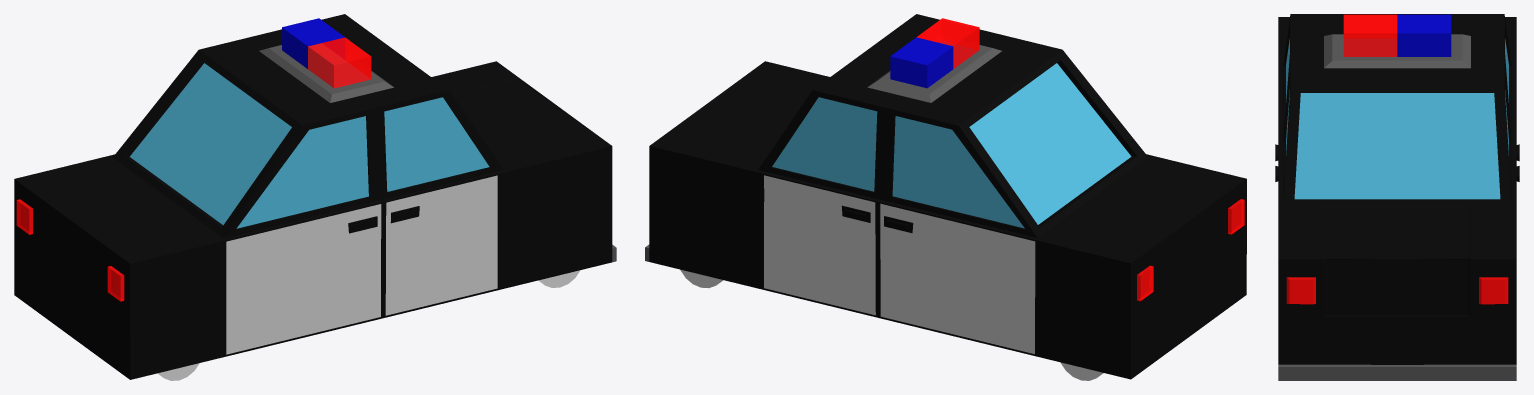
File: cop_car_Re.FBX
The picture shows the model from 3 angles, left to right: view 1: azimuth 30°, elevation 25°; view 2: azimuth 150°, elevation 25°; view 3: azimuth 270°, elevation 25°; orthographic projection. The views are drawn at different scales.
Parts seen in each view (by area): view 1: Box003; view 2: Box003; view 3: Box003.
Boxes of the visible parts, bbox=[...] form: Box003: bbox=[14, 14, 616, 379]; Box003: bbox=[645, 14, 1246, 379]; Box003: bbox=[1275, 14, 1519, 380].
Bounding box in the file's own units: 168 × 81.8 × 70.33.
